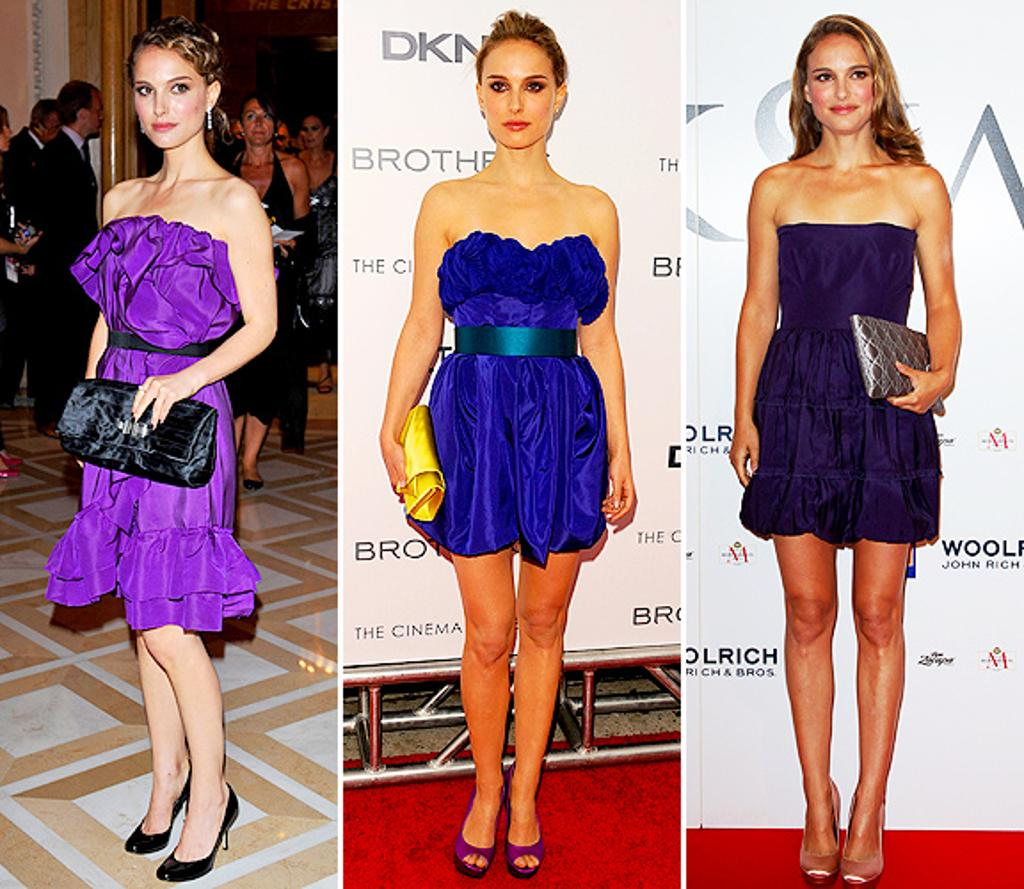face: (480, 53, 555, 147), (133, 54, 205, 147), (807, 43, 874, 132), (242, 104, 273, 141), (81, 97, 102, 132), (41, 117, 67, 139), (303, 120, 324, 147), (0, 113, 12, 150)
